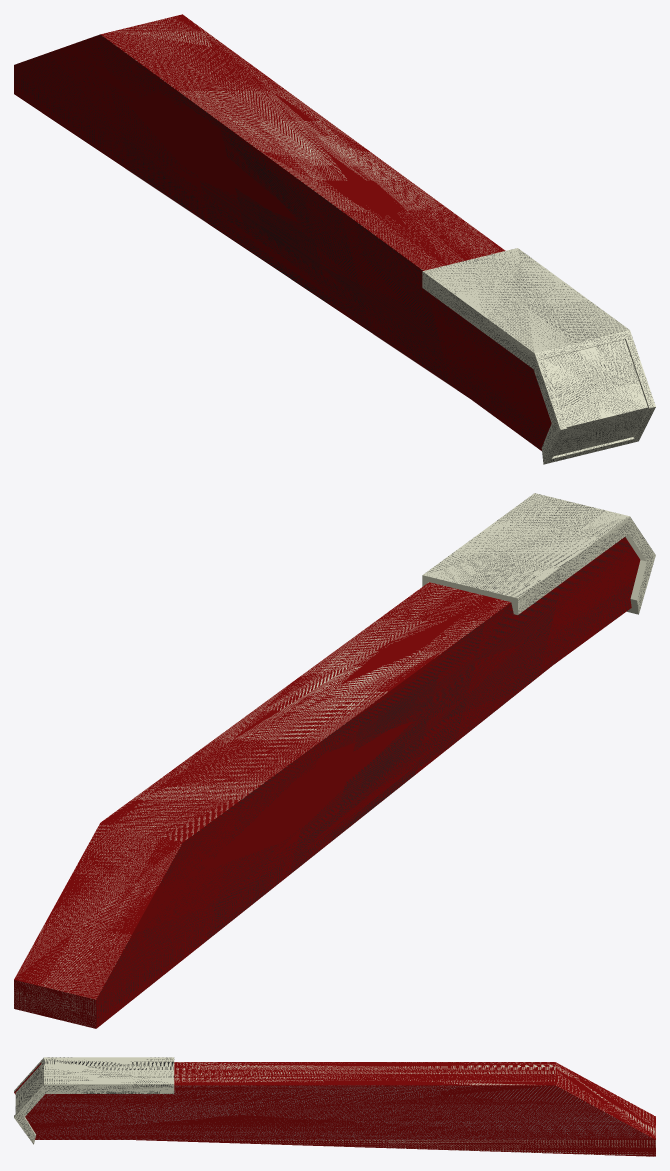
The model's file is original-5.obj.
The picture shows the model from 3 angles, top to bottom: view 1: azimuth 30°, elevation 25°; view 2: azimuth 150°, elevation 25°; view 3: azimuth 270°, elevation 25°; orthographic projection. The views are drawn at different scales.
Visible parts, largest first — view 1: mesh17/mesh17-geometry#mesh17-geometry; view 2: mesh17/mesh17-geometry#mesh17-geometry; view 3: mesh17/mesh17-geometry#mesh17-geometry.
Boxes of the visible parts, x1=… form: mesh17/mesh17-geometry#mesh17-geometry: x1=14, y1=14, x2=655, y2=464; mesh17/mesh17-geometry#mesh17-geometry: x1=14, y1=493, x2=655, y2=1028; mesh17/mesh17-geometry#mesh17-geometry: x1=14, y1=1057, x2=655, y2=1156.
Bounding box in the file's own units: 0.1709 × 0.2197 × 1.72.
